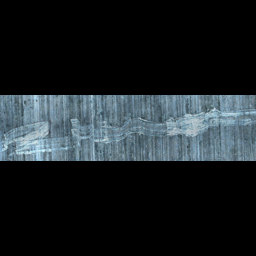d: (1, 104, 256, 157)
